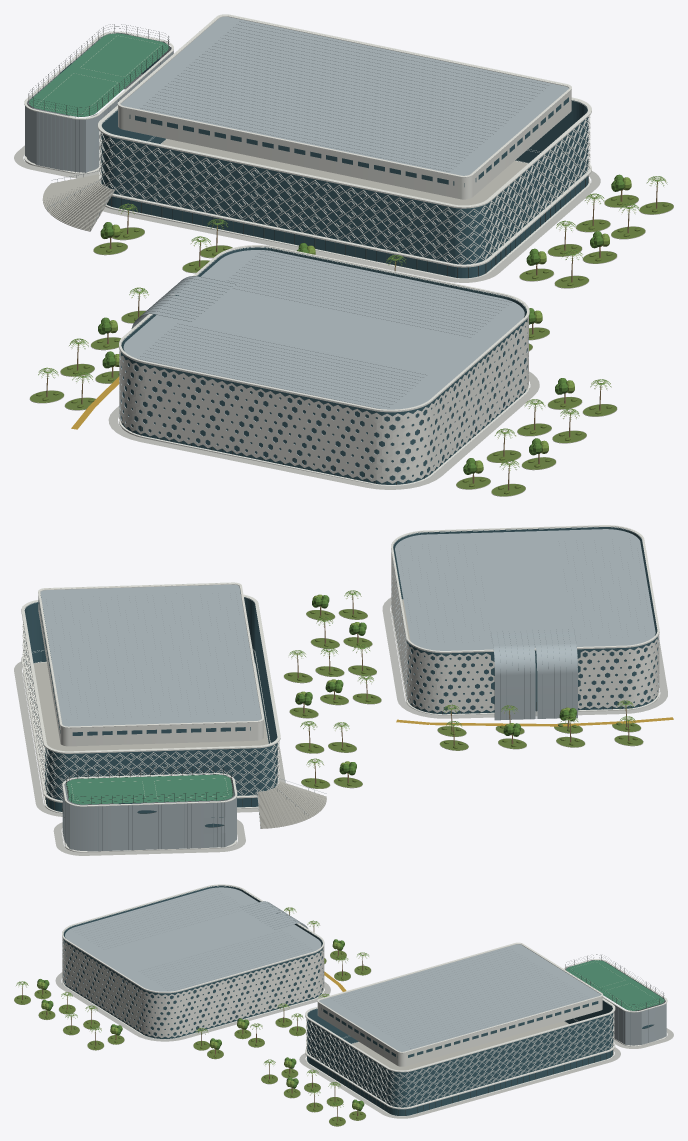
The model's file is sports-lod1.glb.
The picture shows the model from 3 angles, top to bottom: view 1: azimuth 30°, elevation 25°; view 2: azimuth 150°, elevation 25°; view 3: azimuth 270°, elevation 25°; orthographic projection. The views are drawn at different scales.
Parts seen in each view (by area): view 1: gym roof | silver shell.001, pool roof | silver shell.001, gym glazing | dark glazing.001, pool perforated panels | ivory metal.001, gym shell | ivory metal.001, gym geometric screen | ivory metal.001, pool glazing | dark glazing.001, site lawn islands | lawn.001, site perimeter paving | pale paving.001, annex rooftop court | court green.001, annex cladding | silver shell.001, pool shell | ivory metal.001 (+12 smaller); view 2: gym roof | silver shell.001, pool roof | silver shell.001, gym glazing | dark glazing.001, pool perforated panels | ivory metal.001, gym shell | ivory metal.001, annex cladding | silver shell.001, pool central curved wrap | silver shell.001, site perimeter paving | pale paving.001, site lawn islands | lawn.001, pool glazing | dark glazing.001, annex rooftop court | court green.001, gym geometric screen | ivory metal.001 (+14 smaller); view 3: pool roof | silver shell.001, gym roof | silver shell.001, gym glazing | dark glazing.001, pool perforated panels | ivory metal.001, gym shell | ivory metal.001, gym geometric screen | ivory metal.001, pool glazing | dark glazing.001, site lawn islands | lawn.001, site perimeter paving | pale paving.001, annex rooftop court | court green.001, annex cladding | silver shell.001, pool shell | ivory metal.001 (+9 smaller).
Part boxes in pixels (box(x1,y1,x2,y2)): gym roof | silver shell.001: box(120, 16, 568, 175); pool roof | silver shell.001: box(123, 250, 524, 409); gym glazing | dark glazing.001: box(101, 97, 588, 278); pool perforated panels | ivory metal.001: box(119, 317, 528, 483); gym shell | ivory metal.001: box(97, 14, 591, 278); gym geometric screen | ivory metal.001: box(99, 115, 590, 264); pool glazing | dark glazing.001: box(121, 247, 527, 484); site lawn islands | lawn.001: box(30, 195, 673, 496); site perimeter paving | pale paving.001: box(14, 145, 600, 489); annex rooftop court | court green.001: box(29, 33, 169, 116); annex cladding | silver shell.001: box(25, 32, 173, 172); pool shell | ivory metal.001: box(119, 245, 529, 485); gym roof | silver shell.001: box(40, 584, 261, 726); pool roof | silver shell.001: box(395, 529, 655, 650); gym glazing | dark glazing.001: box(24, 590, 277, 811); pool perforated panels | ivory metal.001: box(391, 553, 659, 712); gym shell | ivory metal.001: box(21, 582, 280, 813); annex cladding | silver shell.001: box(62, 774, 236, 851); pool central curved wrap | silver shell.001: box(491, 628, 577, 720); site perimeter paving | pale paving.001: box(14, 597, 667, 855); site lawn islands | lawn.001: box(284, 609, 643, 788); pool glazing | dark glazing.001: box(393, 527, 657, 714); annex rooftop court | court green.001: box(66, 774, 233, 804); gym geometric screen | ivory metal.001: box(22, 622, 279, 799); pool roof | silver shell.001: box(65, 887, 321, 991); gym roof | silver shell.001: box(319, 944, 600, 1051); gym glazing | dark glazing.001: box(307, 1000, 613, 1115); pool perforated panels | ivory metal.001: box(62, 938, 324, 1037); gym shell | ivory metal.001: box(305, 942, 615, 1116); gym geometric screen | ivory metal.001: box(306, 1012, 614, 1107); pool glazing | dark glazing.001: box(63, 885, 322, 1038); site lawn islands | lawn.001: box(14, 950, 370, 1126); site perimeter paving | pale paving.001: box(55, 972, 673, 1118); annex rooftop court | court green.001: box(566, 960, 664, 1010); annex cladding | silver shell.001: box(565, 960, 666, 1045); pool shell | ivory metal.001: box(62, 884, 324, 1039).
Bounding box in the file's own units: 221 × 29.98 × 297.
